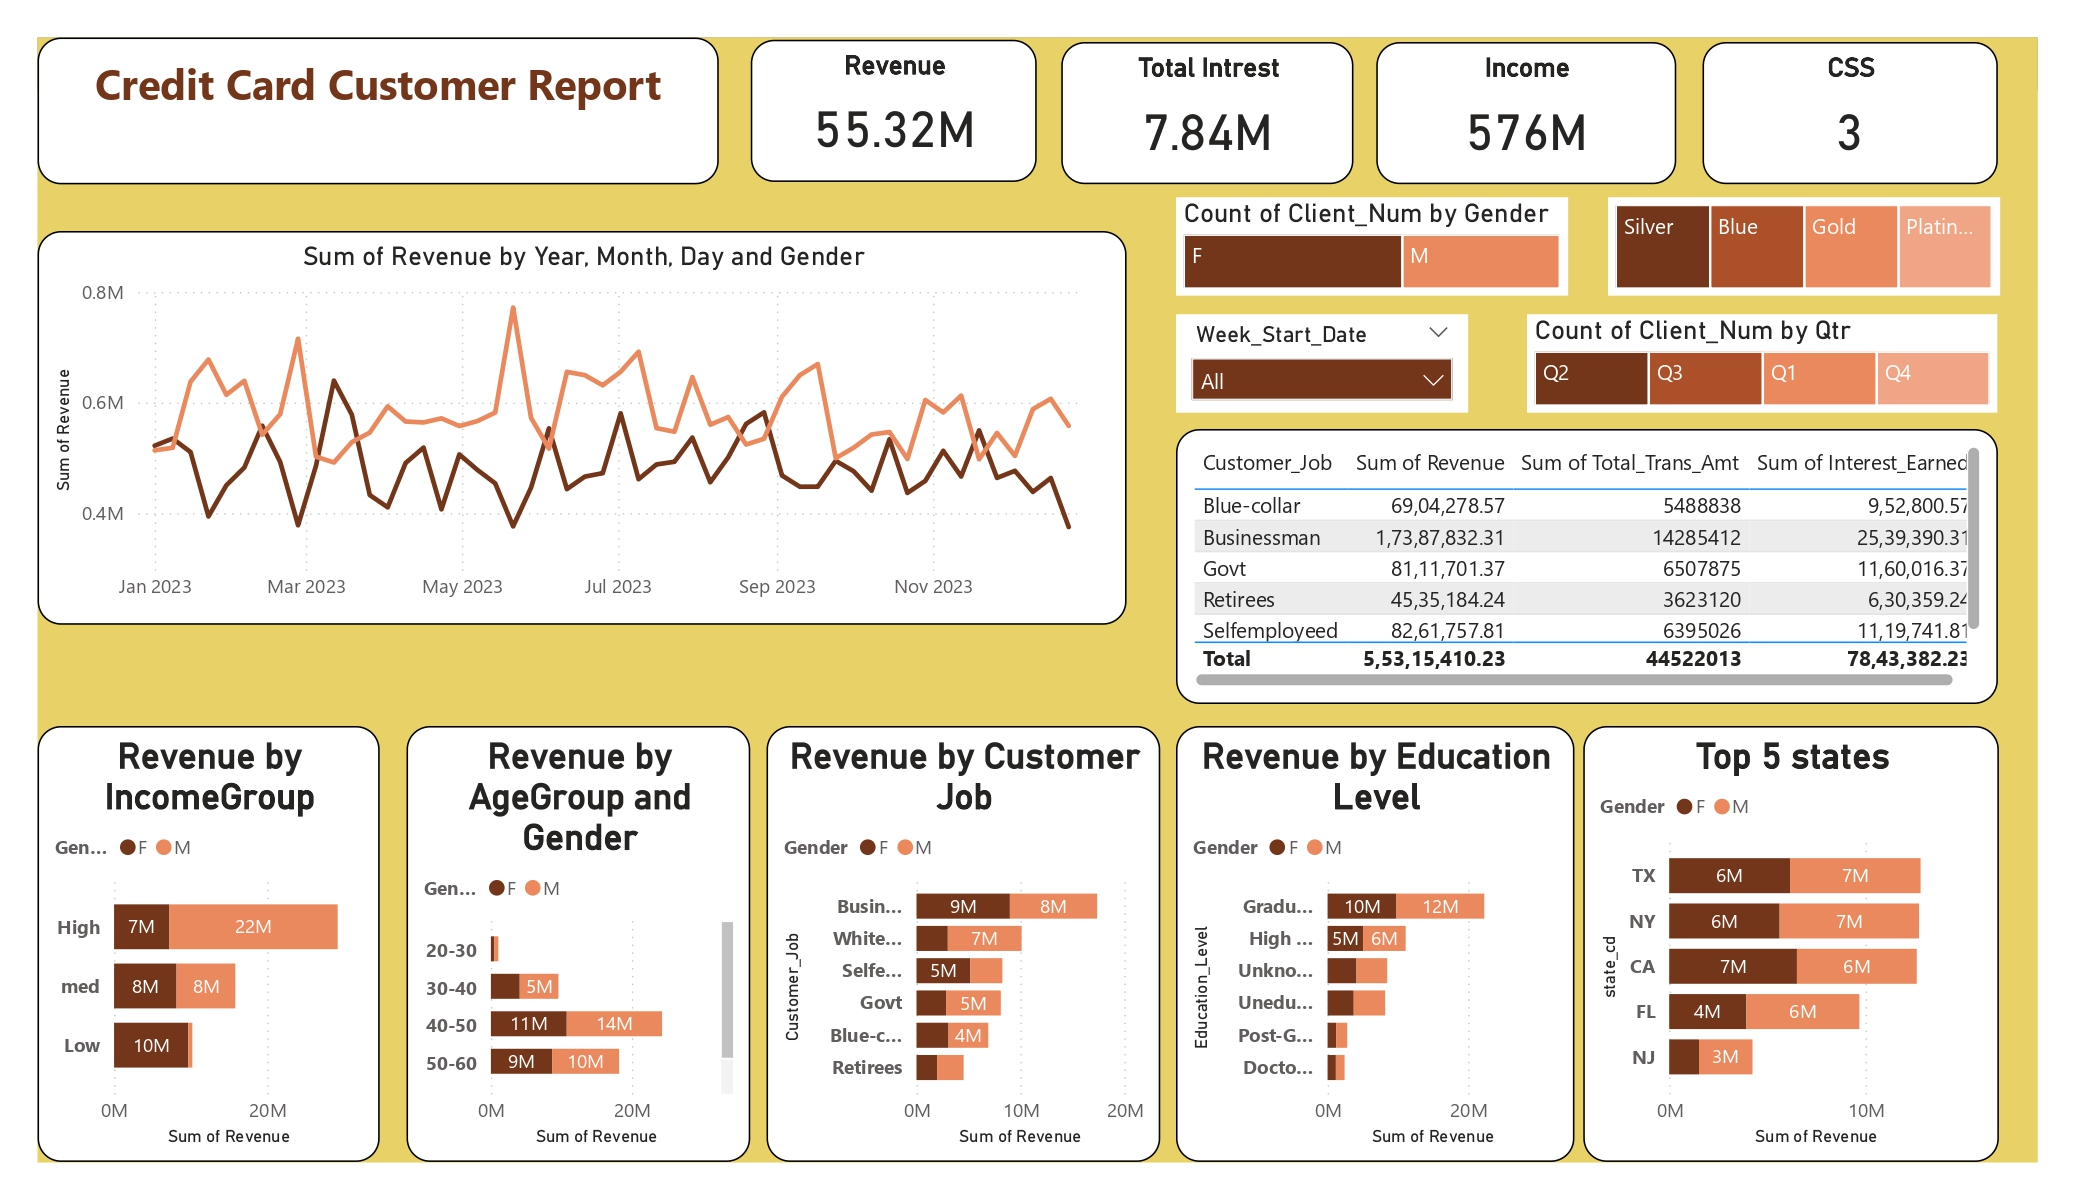

This screenshot's page, from the dashboard's own definition file:
{"tool":"powerbi","page":{"name":"Credit Card Customer Report","canvas":[1280,720],"ordinal":1},"visuals":[{"type":"textbox","box":[0,0,436.3,93.6],"z":0},{"type":"barChart","title":"Revenue by IncomeGroup","fields":{"Y":["Sum(credit_card.Revenue)"],"Category":["customer.IncomeGroup"],"Series":["customer.Gender"]},"box":[0,440.6,218.9,279.4],"z":1000},{"type":"tableEx","fields":{"Values":["customer.Customer_Job","Sum(credit_card.Revenue)","Sum(credit_card.Total_Trans_Amt)","Sum(credit_card.Interest_Earned)"]},"box":[728.6,250.6,525.6,175.7],"z":2000},{"type":"card","title":"Revenue","fields":{"Values":["Sum(credit_card.Revenue)"]},"box":[456.5,1.4,182.9,90.7],"z":3000},{"type":"card","title":"Total Intrest","fields":{"Values":["Sum(credit_card.Interest_Earned)"]},"box":[655.2,2.9,187.2,90.7],"z":4000},{"type":"card","title":"CSS","fields":{"Values":["Avg(customer.Cust_Satisfaction_Score)"]},"box":[1065.6,2.9,188.6,90.7],"z":5000},{"type":"slicer","fields":{"Values":["credit_card.Week_Start_Date"]},"box":[728.6,177.1,187.2,63.4],"z":6000},{"type":"treemap","fields":{"Group":["credit_card.Qtr"],"Values":["CountNonNull(credit_card.Client_Num)"]},"box":[953.3,177.1,301,63.4],"z":7000},{"type":"treemap","fields":{"Values":["CountNonNull(credit_card.Client_Num)"],"Details":["customer.Gender"]},"box":[728.6,102.2,250.6,63.4],"z":8000},{"type":"treemap","fields":{"Group":["credit_card.Card_Category"],"Values":["Avg(credit_card.Client_Num)"]},"box":[1005.1,102.2,250.6,63.4],"z":9000},{"type":"card","title":"Income","fields":{"Values":["Sum(customer.Income)"]},"box":[856.8,2.9,191.5,90.7],"z":10000},{"type":"lineChart","fields":{"Category":["credit_card.Week_Start_Date.Variation.Date Hierarchy.Year","credit_card.Week_Start_Date.Variation.Date Hierarchy.Month","credit_card.Week_Start_Date.Variation.Date Hierarchy.Day"],"Y":["Sum(credit_card.Revenue)"],"Series":["customer.Gender"]},"box":[0,123.8,697,252],"z":11000},{"type":"barChart","title":"Revenue by AgeGroup and Gender","fields":{"Y":["Sum(credit_card.Revenue)"],"Category":["customer.AgeGroup"],"Series":["customer.Gender"]},"box":[236.2,440.6,220.3,279.4],"z":12000},{"type":"barChart","title":" Revenue by Customer Job","fields":{"Y":["Sum(credit_card.Revenue)"],"Category":["customer.Customer_Job"],"Series":["customer.Gender"]},"box":[466.6,440.6,252,279.4],"z":12001},{"type":"barChart","title":" Revenue by Education Level","fields":{"Y":["Sum(credit_card.Revenue)"],"Category":["customer.Education_Level"],"Series":["customer.Gender"]},"box":[728.6,440.6,254.9,279.4],"z":12002},{"type":"barChart","title":"Top 5 states","fields":{"Y":["Sum(credit_card.Revenue)"],"Category":["customer.state_cd"],"Series":["customer.Gender"]},"box":[989.3,440.6,266.4,279.4],"z":12003}]}

Visuals, with their boxes in screenshot pixels (x1, y1, x2, y2):
textbox: x1=38 y1=38 x2=719 y2=184
"Revenue by IncomeGroup" barChart: x1=38 y1=726 x2=380 y2=1162
tableEx - customer.Customer_Job x Sum(credit_card.Revenue): x1=1176 y1=429 x2=1997 y2=704
"Revenue" card: x1=751 y1=40 x2=1037 y2=181
"Total Intrest" card: x1=1061 y1=42 x2=1354 y2=184
"CSS" card: x1=1702 y1=42 x2=1997 y2=184
slicer - credit_card.Week_Start_Date: x1=1176 y1=314 x2=1468 y2=413
treemap - credit_card.Qtr x CountNonNull(credit_card.Client_Num): x1=1527 y1=314 x2=1997 y2=413
treemap - CountNonNull(credit_card.Client_Num) x customer.Gender: x1=1176 y1=197 x2=1568 y2=296
treemap - credit_card.Card_Category x Avg(credit_card.Client_Num): x1=1608 y1=197 x2=2000 y2=296
"Income" card: x1=1376 y1=42 x2=1675 y2=184
lineChart - credit_card.Week_Start_Date.Variation.Date Hierarchy.Year x credit_card.Week_Start_Date.Variation.Date Hierarchy.Month: x1=38 y1=231 x2=1127 y2=625
"Revenue by AgeGroup and Gender" barChart: x1=407 y1=726 x2=751 y2=1162
" Revenue by Customer Job" barChart: x1=767 y1=726 x2=1160 y2=1162
" Revenue by Education Level" barChart: x1=1176 y1=726 x2=1574 y2=1162
"Top 5 states" barChart: x1=1583 y1=726 x2=2000 y2=1162
